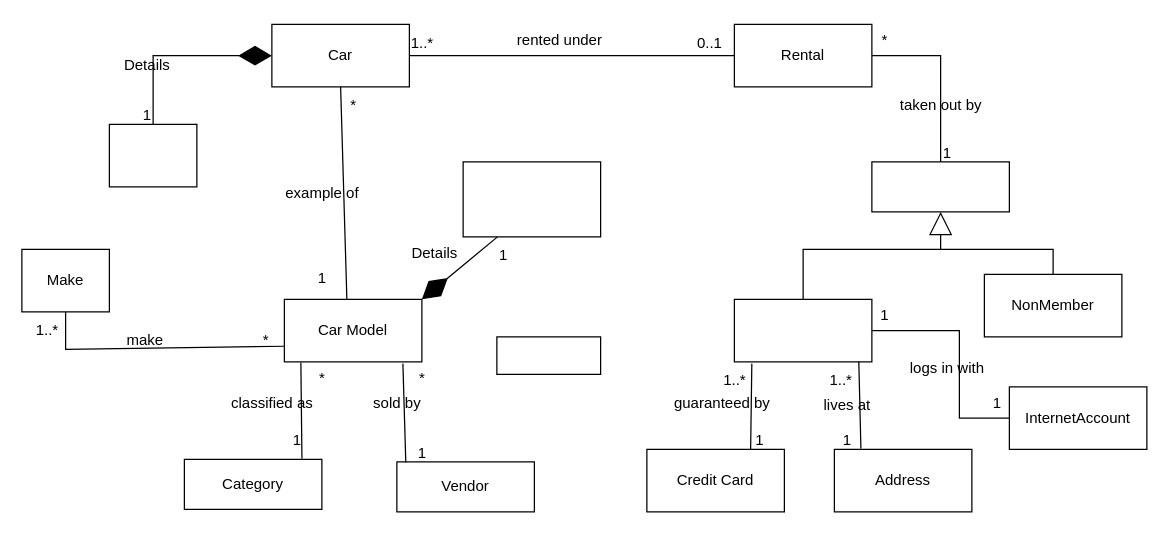
This 1169x534 diagram has some shape labels left out. Each missing label, with the centre of its shape:
Car Details: point (152, 155)
Car Model Details: point (531, 199)
Customer: point (940, 186)
Member: point (802, 330)
Reservation: point (548, 355)
